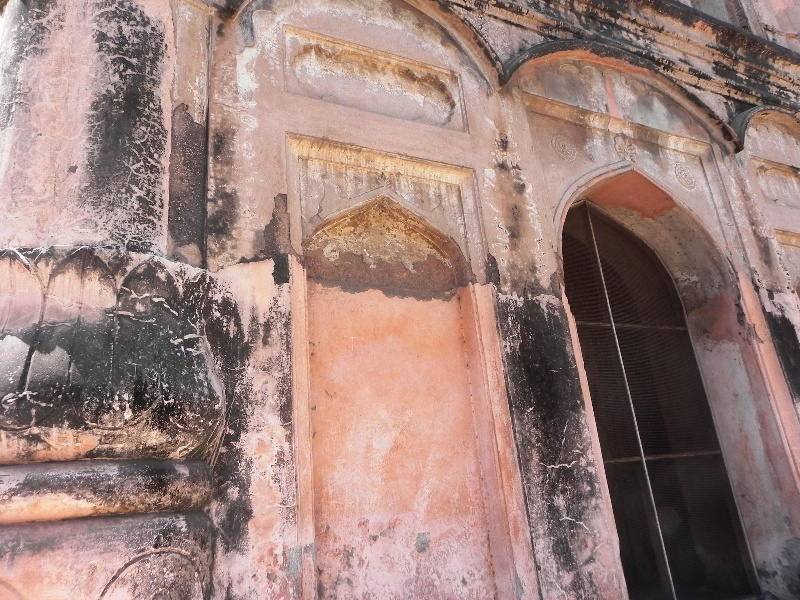Spalling: (299, 243, 473, 305)
